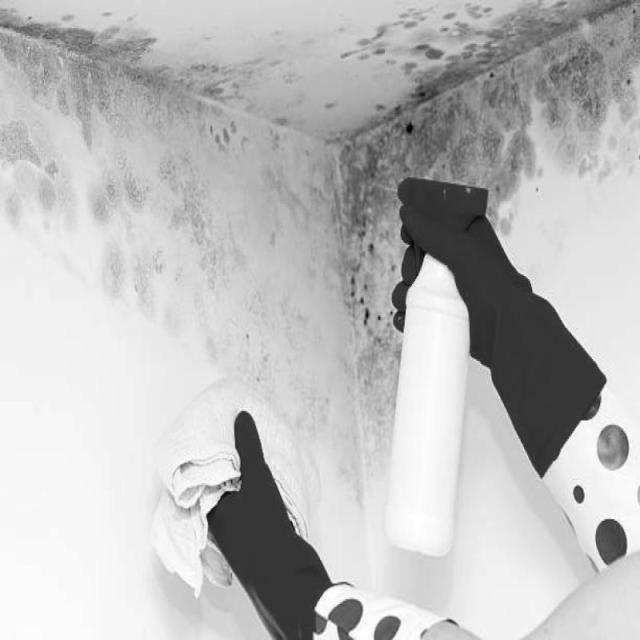stain marks: (0, 5, 640, 506)
